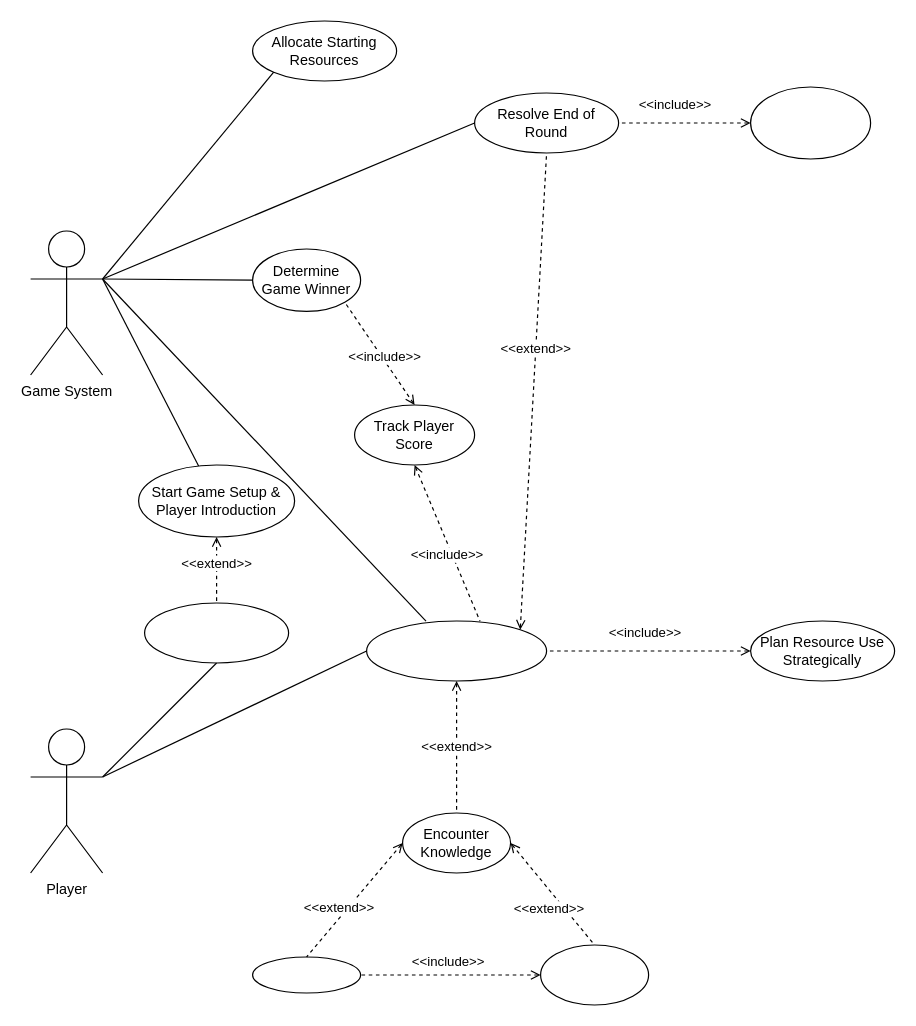
Some shapes in this 916 by 1026 pixel diagram are drawn without their labels. The shapes that lost their labels are listed below. From the top down, each one's centre as x and y in pixels, then its label:
the point at 810,122: Handle New Potholes Mid-Game
the point at 216,632: Adjust Point Values
the point at 456,650: Move Player & Manage Resources
the point at 306,974: Play Tutorial
the point at 594,974: Answer Knowledge Question
